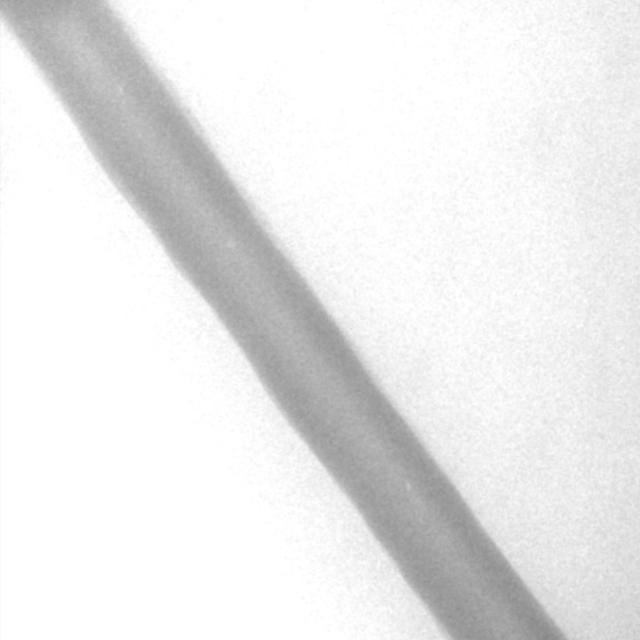air hole: (226, 235, 239, 252), (402, 478, 413, 494), (115, 82, 126, 98)
